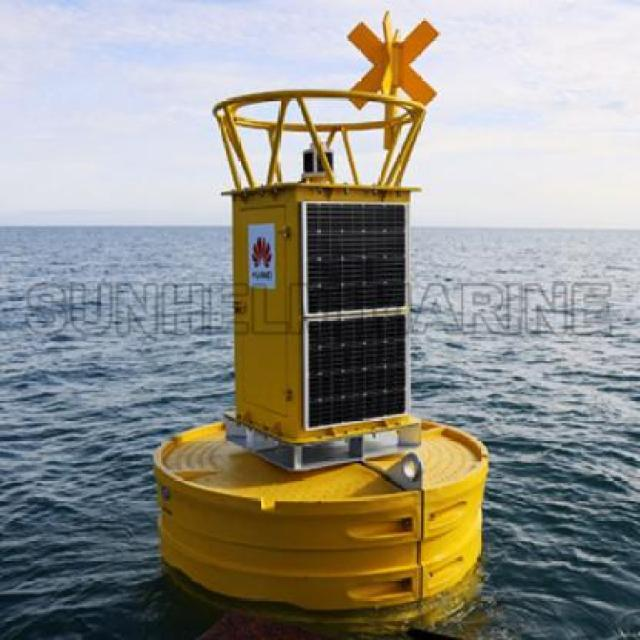a: (132, 13, 539, 631), (115, 404, 539, 623)
